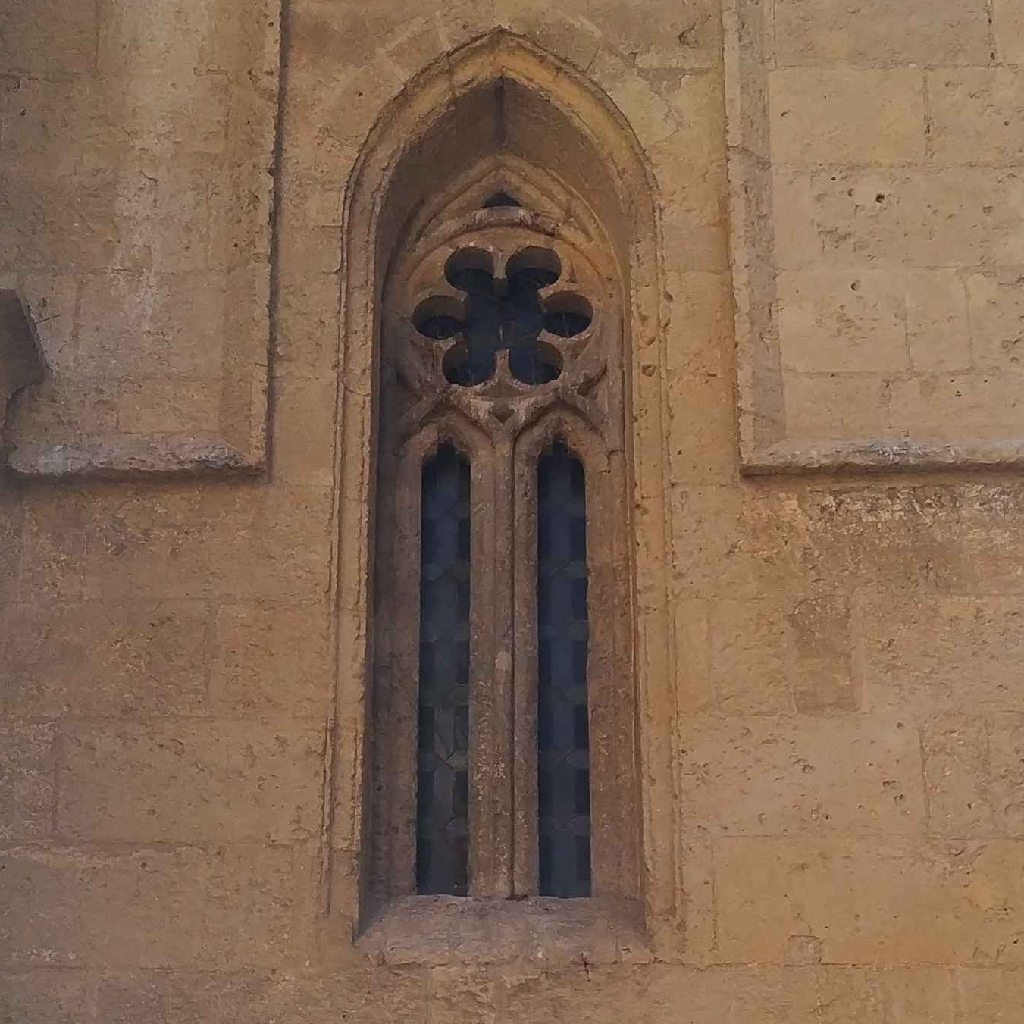arco-apuntado: (328, 17, 657, 323)
